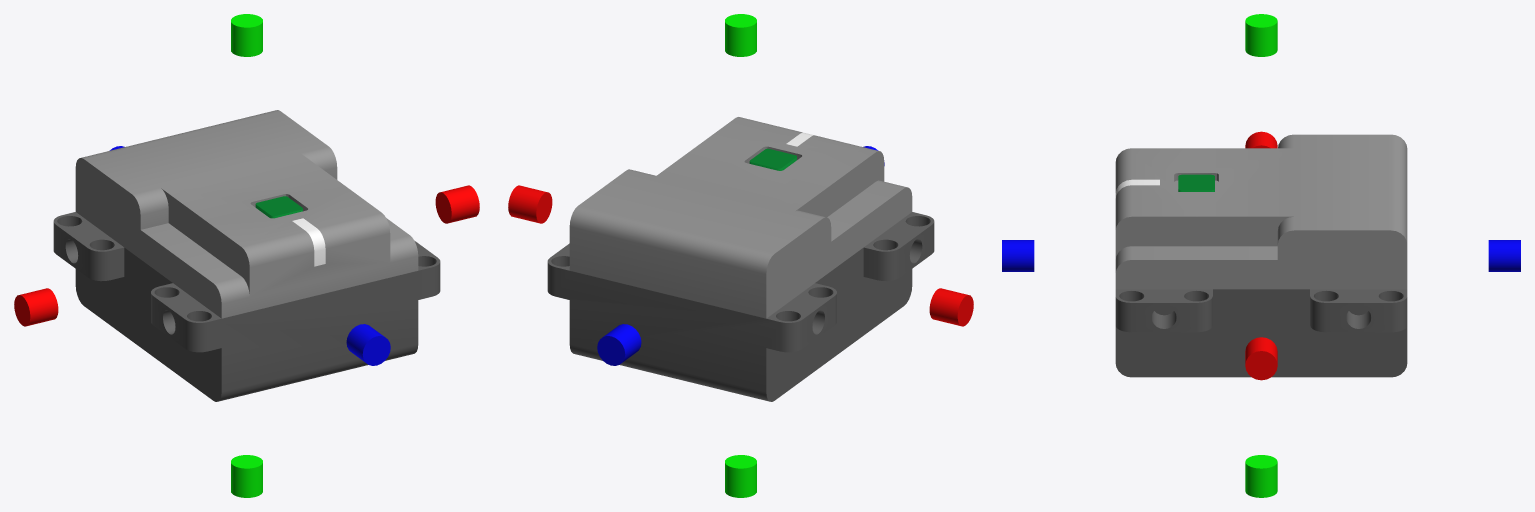
Rendered from Technic Hub.fbx.
3 renders of one model, left to right at view 1: azimuth 30°, elevation 25°; view 2: azimuth 150°, elevation 25°; view 3: azimuth 270°, elevation 25°, orthographic.
Visible parts, largest first — view 1: Hub, X Axis Negative, X Axis Positive, Z Axis Positive, Y Axis Negative, Y Axis Positive, Button; view 2: Hub, X Axis Negative, X Axis Positive, Z Axis Negative, Y Axis Negative, Y Axis Positive, Button; view 3: Hub, Y Axis Negative, Y Axis Positive, X Axis Negative, Z Axis Positive, Z Axis Negative, Button.
Part boxes in pixels (x1,y1,x2,y2): Hub: (53,110,440,401); X Axis Negative: (435,185,479,223); X Axis Positive: (14,288,58,326); Z Axis Positive: (346,324,390,365); Y Axis Negative: (231,455,262,497); Y Axis Positive: (231,14,262,56); Button: (255,196,302,218); Hub: (547,117,934,401); X Axis Negative: (508,185,552,223); X Axis Positive: (929,288,973,326); Z Axis Negative: (597,324,641,365); Y Axis Negative: (725,455,756,497); Y Axis Positive: (725,14,756,56); Button: (749,148,796,170); Hub: (1115,134,1407,377); Y Axis Negative: (1245,455,1277,497); Y Axis Positive: (1245,14,1277,56); X Axis Negative: (1245,337,1277,380); Z Axis Positive: (1002,240,1034,271); Z Axis Negative: (1488,240,1520,271); Button: (1178,174,1214,191).
Size of the model in its own units: 12.8 by 12.8 by 12.8.
